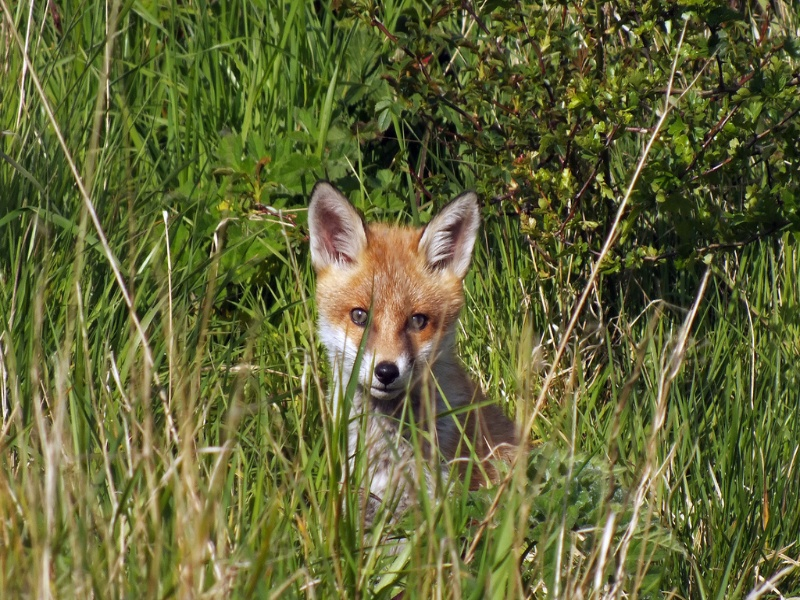fox: (302, 180, 539, 529)
